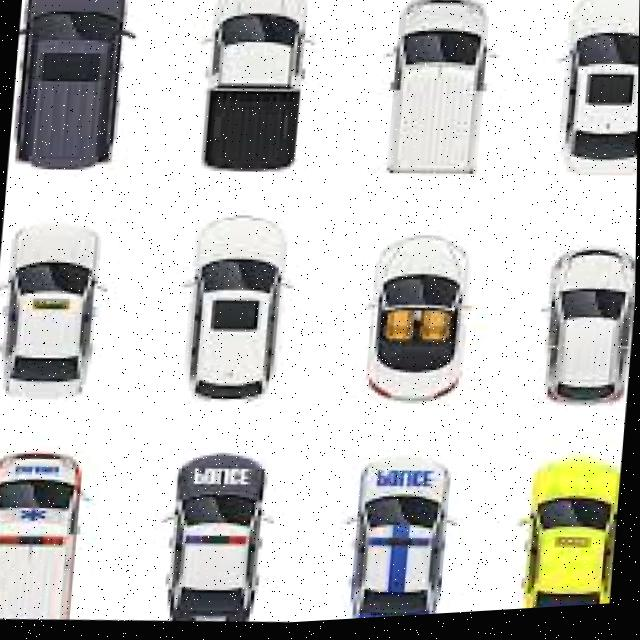truck: (7, 0, 136, 181), (187, 0, 312, 180), (382, 1, 495, 190), (0, 446, 88, 624)
